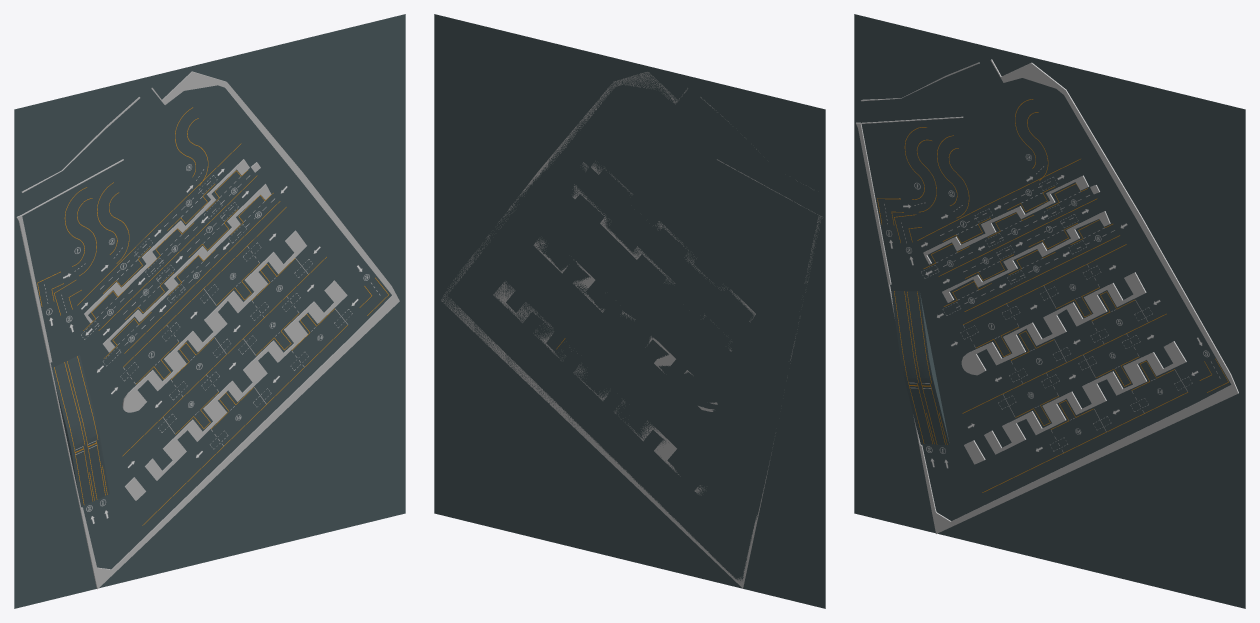
The model's file is field.gltf.
3 views of the same model, side by side, from view 1: azimuth 30°, elevation 25°; view 2: azimuth 150°, elevation 25°; view 3: azimuth 330°, elevation 25° (orthographic).
Parts seen in each view (by area): view 1: ground, green, ramp-1-ui; view 2: ground, green, ramp-1-ui; view 3: ground, green, ramp-1-ui.
Part boxes in pixels (box(x1,y1,x2,y2)): ground: box(14, 14, 405, 608); green: box(16, 71, 399, 589); ramp-1-ui: box(52, 355, 109, 506); ground: box(434, 14, 825, 608); green: box(441, 72, 822, 588); ramp-1-ui: box(730, 362, 788, 506); ground: box(854, 14, 1245, 608); green: box(856, 59, 1238, 533); ramp-1-ui: box(891, 291, 949, 445).
Size of what is drawn, in the model's own units: 118 by 144 by 1.77.
